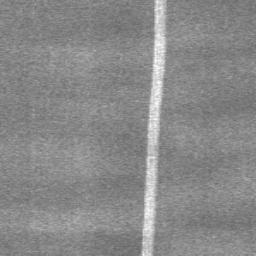Bright scratch: (143, 0, 167, 256)
